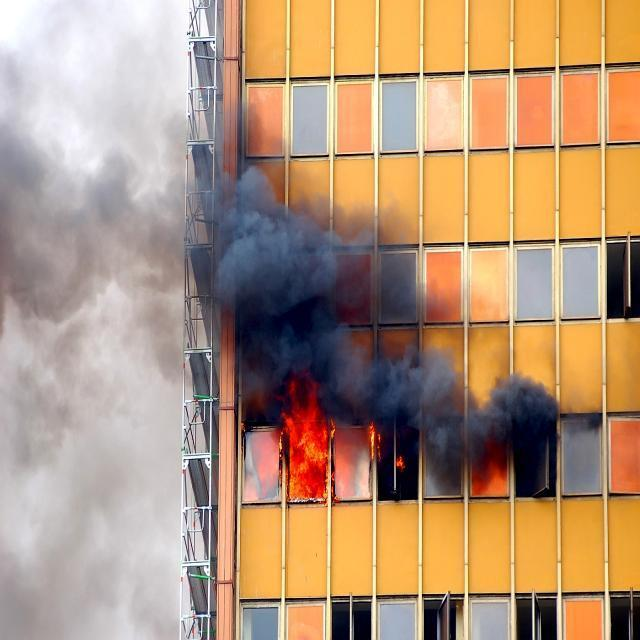Fire: (276, 389, 342, 500), (362, 419, 388, 472)
Smoke: (166, 166, 511, 468)
